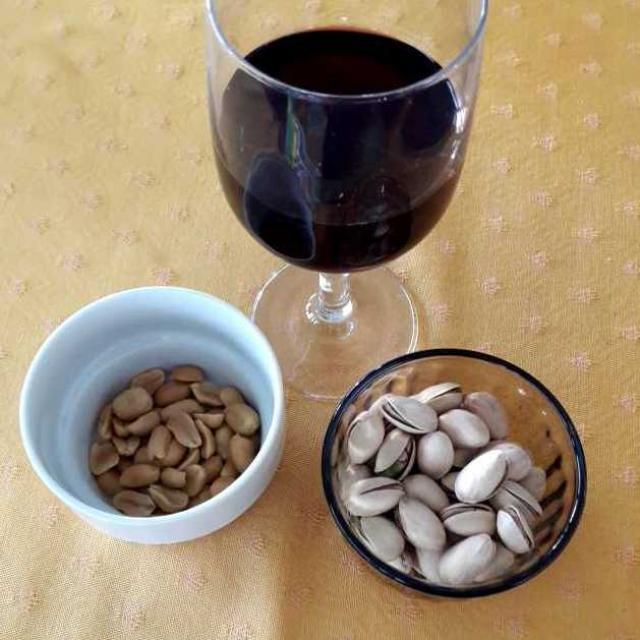nut: (87, 369, 257, 515)
pistachio: (342, 391, 553, 583)
wine: (212, 35, 466, 296)
